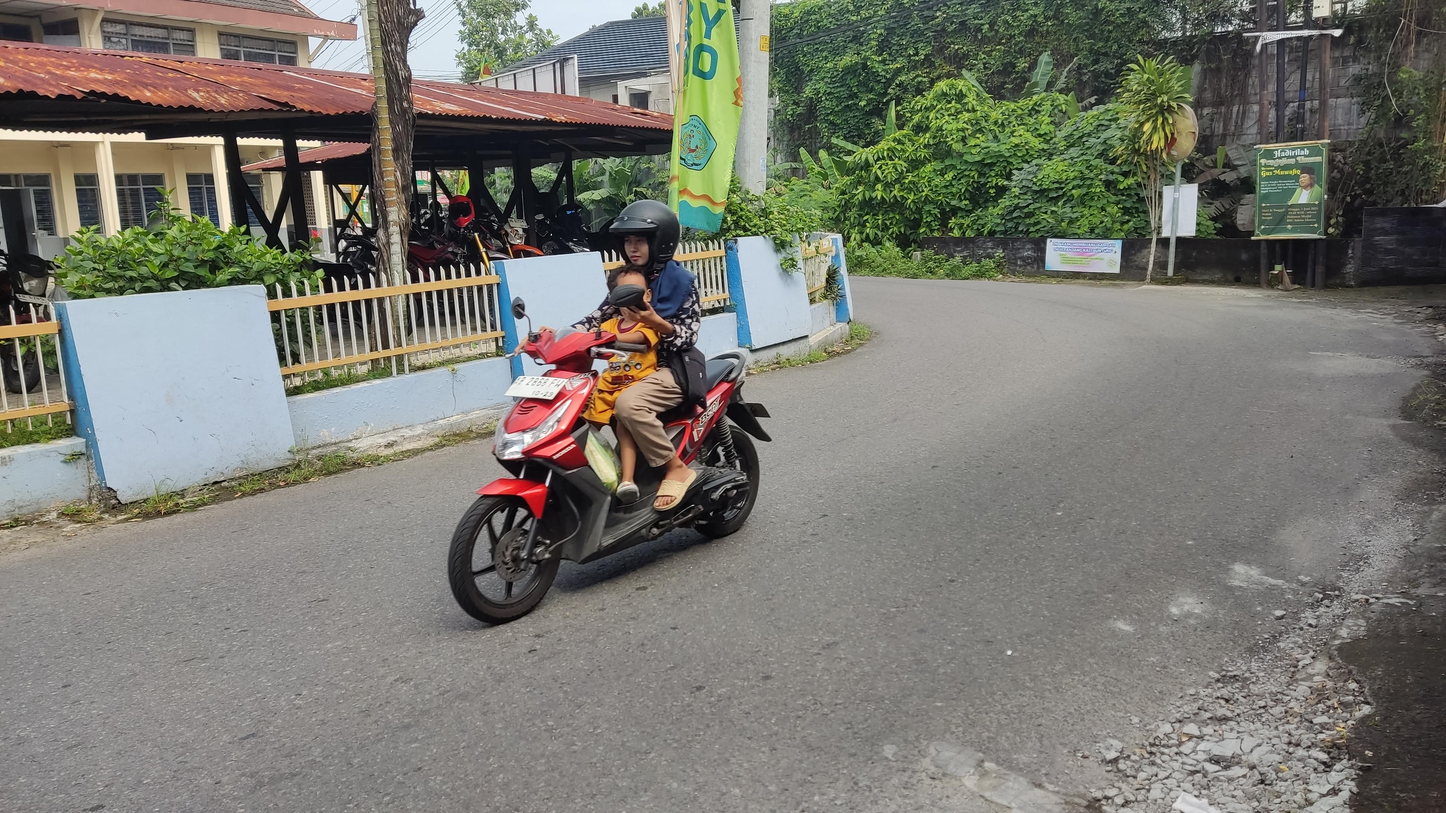helm: (609, 198, 681, 271)
nohelm: (605, 265, 654, 322)
riding: (446, 197, 774, 627)
